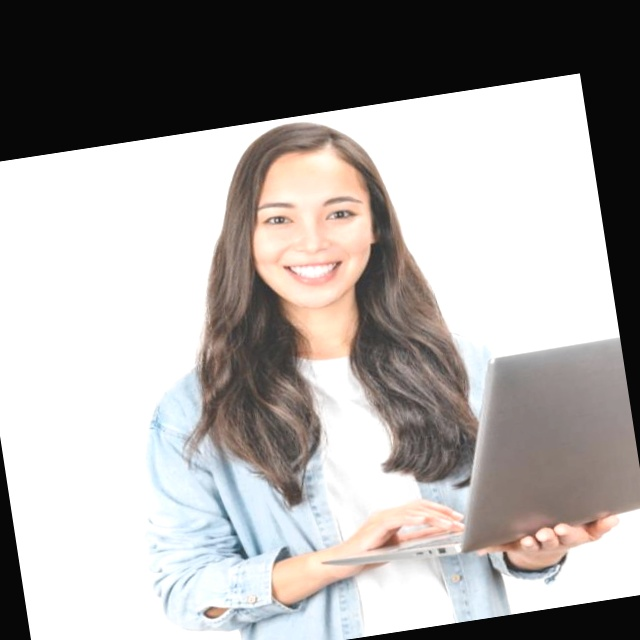Sin_Casco_Mascarrilla: (217, 111, 405, 314)
Sin_Chaleco: (135, 299, 528, 640)
